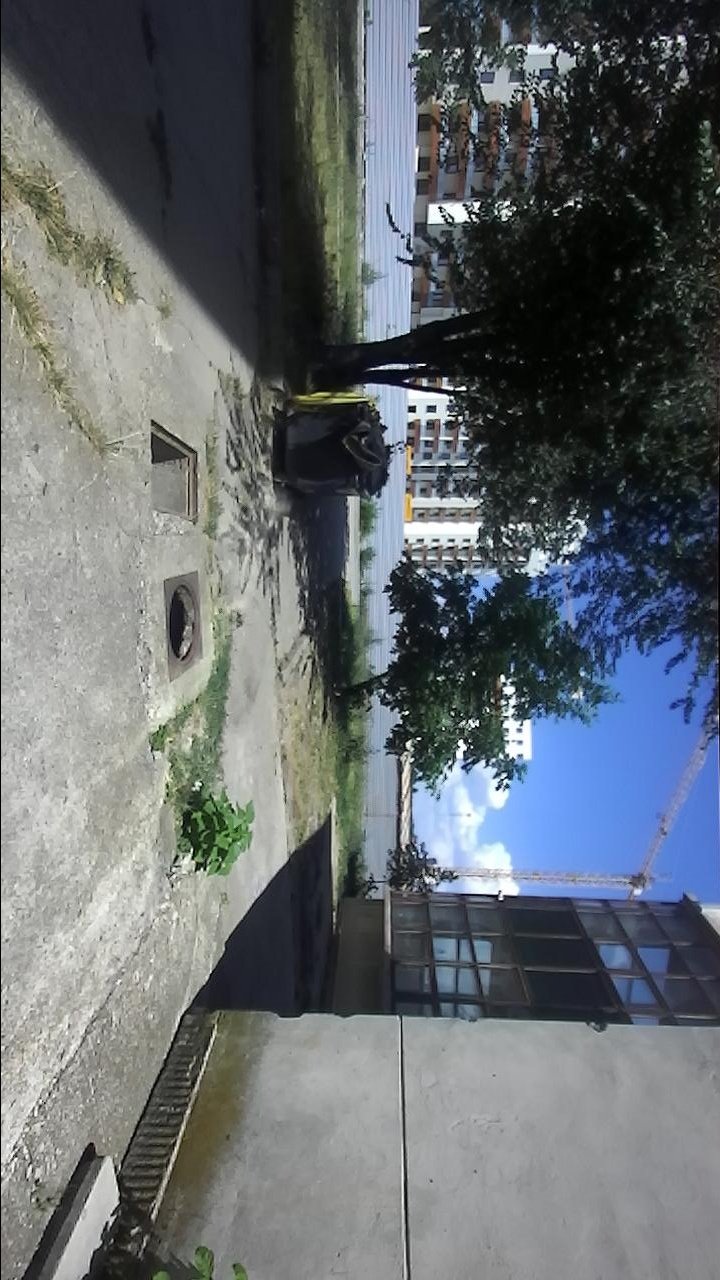drain: (142, 413, 201, 528), (165, 581, 202, 670)
